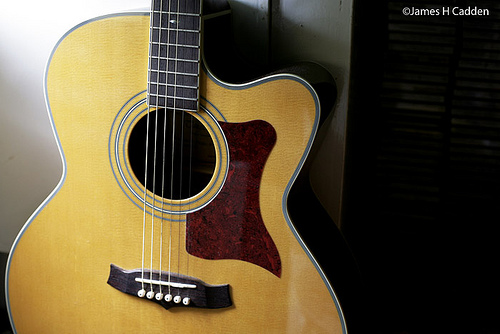guitar: (4, 1, 351, 334)
